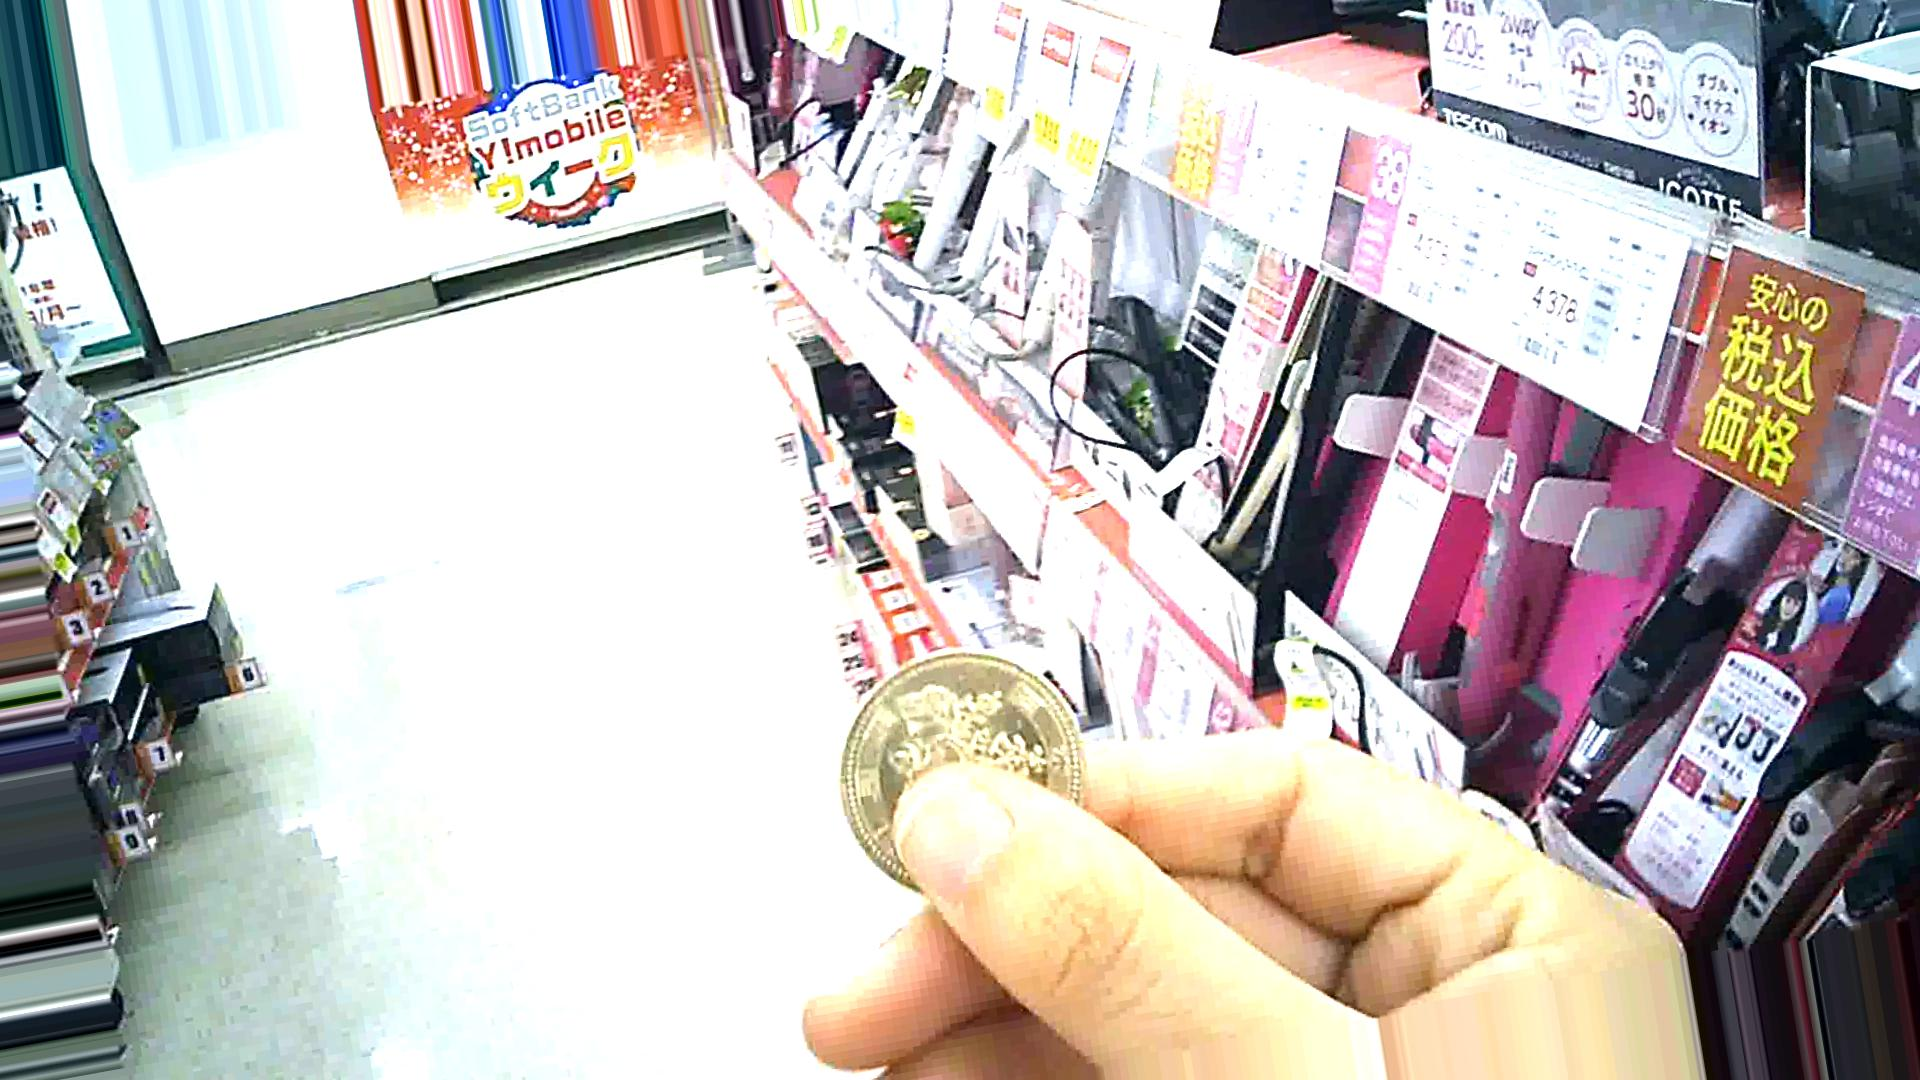500 Yen: (843, 657, 1095, 885)
